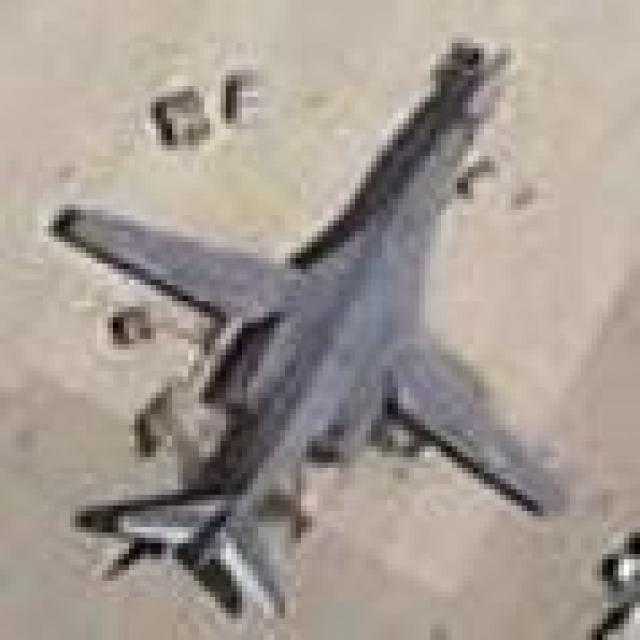B-1_TopDown: (43, 32, 565, 618)
